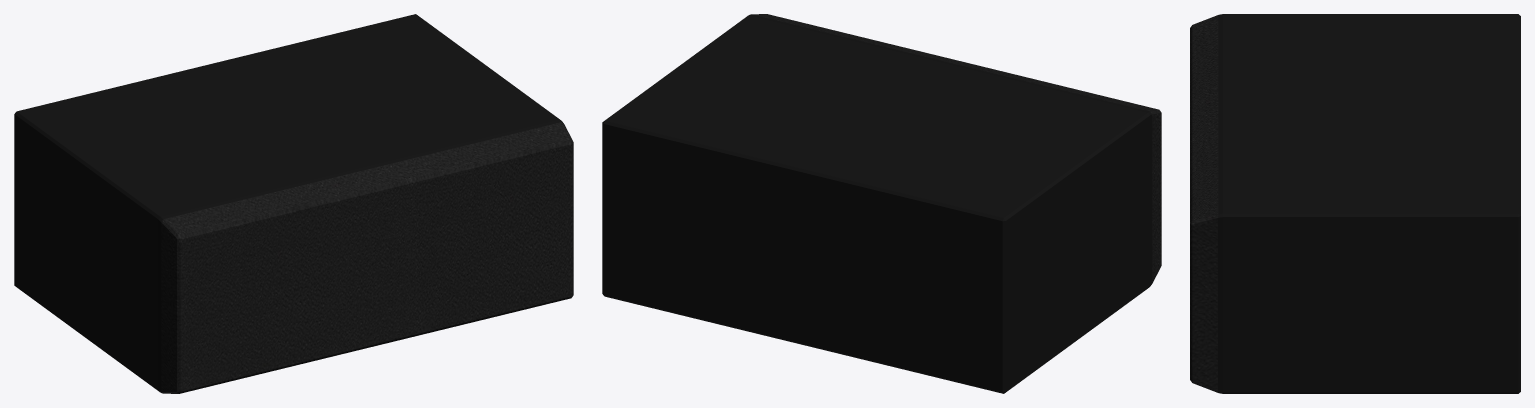
Rendered from sound1b.FBX.
The picture shows the model from 3 angles, left to right: view 1: azimuth 30°, elevation 25°; view 2: azimuth 150°, elevation 25°; view 3: azimuth 270°, elevation 25°; orthographic projection. The views are drawn at different scales.
Visible parts, largest first — view 1: sound1b; view 2: sound1b; view 3: sound1b.
Boxes of the visible parts, x1,y1,x2,y2 form: sound1b: (14,14,573,393); sound1b: (602,14,1161,393); sound1b: (1190,14,1520,393).
Size of the model in its own units: 0.3809 by 0.2639 by 0.1586.
